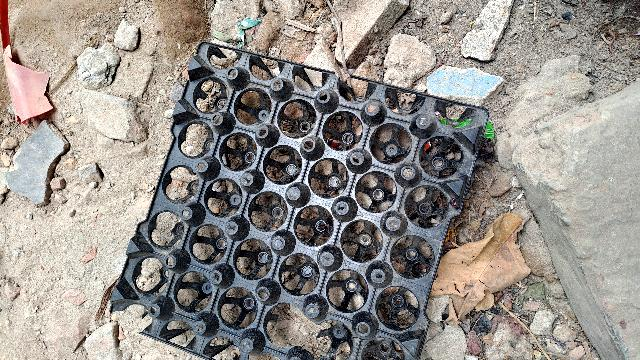hardplastic: (107, 30, 494, 360)
